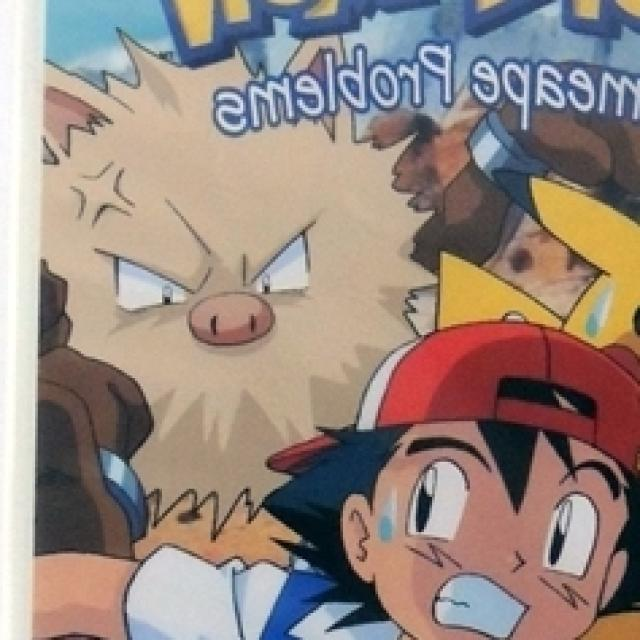Primeape: (38, 43, 408, 545)
